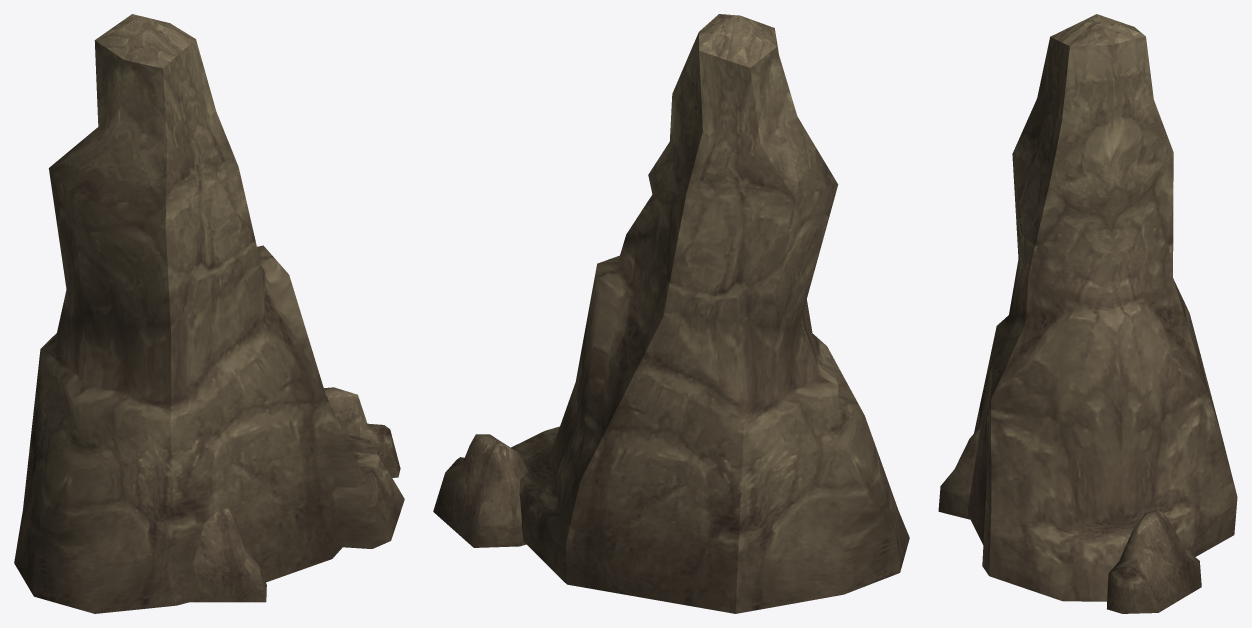
File: Stone01_shandi_003.FBX
3 renders of one model, left to right at view 1: azimuth 30°, elevation 25°; view 2: azimuth 150°, elevation 25°; view 3: azimuth 270°, elevation 25°, orthographic. The views are drawn at different scales.
Visible parts, largest first — view 1: Stone01_shandi_003; view 2: Stone01_shandi_003; view 3: Stone01_shandi_003.
Part boxes in pixels (box(x1,y1,x2,y2)): Stone01_shandi_003: box(14, 14, 404, 613); Stone01_shandi_003: box(433, 14, 909, 613); Stone01_shandi_003: box(938, 14, 1237, 613).
Size of the model in its own units: 466 by 584 by 328.
